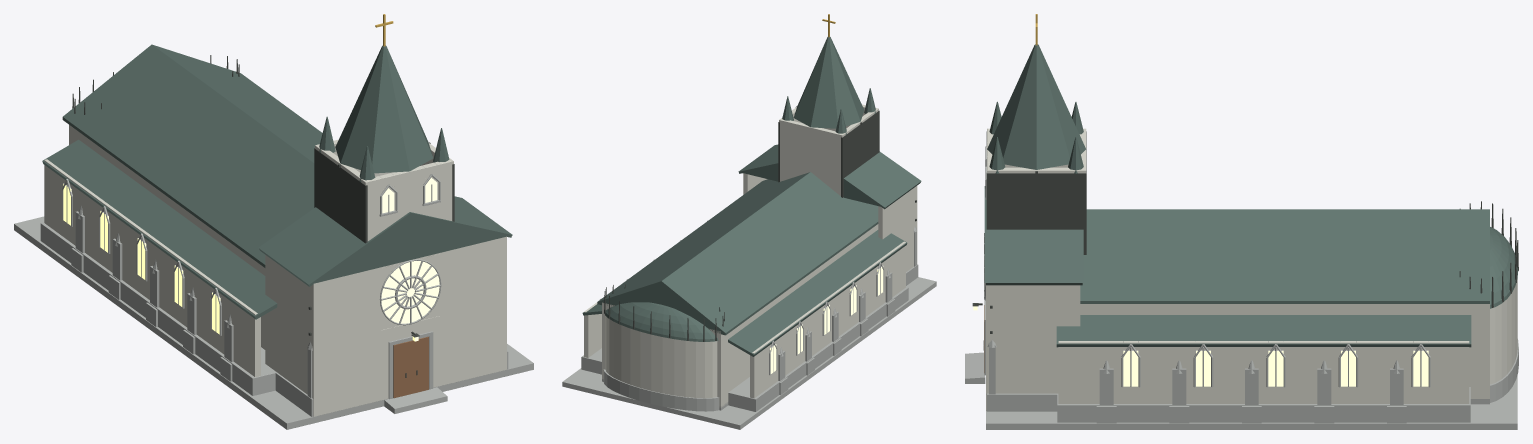
The model's file is ChurchExterior3D.fbx.
The picture shows the model from 3 angles, left to right: view 1: azimuth 30°, elevation 25°; view 2: azimuth 150°, elevation 25°; view 3: azimuth 270°, elevation 25°; orthographic projection. The views are drawn at different scales.
Visible parts, largest first — view 1: EXT_GabledRoofs, EXT_BasilicaMasses, EXT_StoneButtresses, EXT_BellSpire, EXT_Foundation, EXT_CornicesAndRoofSeams, EXT_RoseGlass, EXT_StainedGlass, EXT_WestDoors, EXT_LancetTracery, EXT_RoseTracery; view 2: EXT_GabledRoofs, EXT_BasilicaMasses, EXT_StoneButtresses, EXT_BellSpire, EXT_Foundation, EXT_CornicesAndRoofSeams, EXT_StainedGlass, EXT_LancetTracery; view 3: EXT_GabledRoofs, EXT_BasilicaMasses, EXT_StoneButtresses, EXT_BellSpire, EXT_Foundation, EXT_CornicesAndRoofSeams, EXT_StainedGlass, EXT_LancetTracery.
Part boxes in pixels (box(x1,y1,x2,y2)): EXT_GabledRoofs: box(42, 44, 512, 319); EXT_BasilicaMasses: box(44, 125, 506, 416); EXT_StoneButtresses: box(40, 205, 508, 416); EXT_BellSpire: box(319, 45, 449, 181); EXT_Foundation: box(14, 216, 533, 429); EXT_CornicesAndRoofSeams: box(72, 55, 454, 377); EXT_RoseGlass: box(381, 261, 439, 323); EXT_StainedGlass: box(63, 177, 437, 334); EXT_WestDoors: box(393, 336, 428, 398); EXT_LancetTracery: box(62, 120, 440, 335); EXT_RoseTracery: box(379, 259, 441, 325); EXT_GabledRoofs: box(582, 144, 921, 356); EXT_BasilicaMasses: box(584, 104, 917, 407); EXT_StoneButtresses: box(581, 226, 918, 411); EXT_BellSpire: box(782, 37, 875, 134); EXT_Foundation: box(562, 277, 936, 429); EXT_CornicesAndRoofSeams: box(604, 106, 916, 341); EXT_StainedGlass: box(770, 265, 883, 373); EXT_LancetTracery: box(600, 220, 884, 375); EXT_GabledRoofs: box(984, 186, 1517, 347); EXT_BasilicaMasses: box(986, 128, 1517, 410); EXT_StoneButtresses: box(984, 299, 1518, 423); EXT_BellSpire: box(987, 44, 1085, 173); EXT_Foundation: box(965, 352, 1517, 429); EXT_CornicesAndRoofSeams: box(972, 131, 1518, 350); EXT_StainedGlass: box(1123, 350, 1428, 386); EXT_LancetTracery: box(985, 146, 1430, 387).
Bounding box in the file's own units: 2300 × 3258 × 4582.
